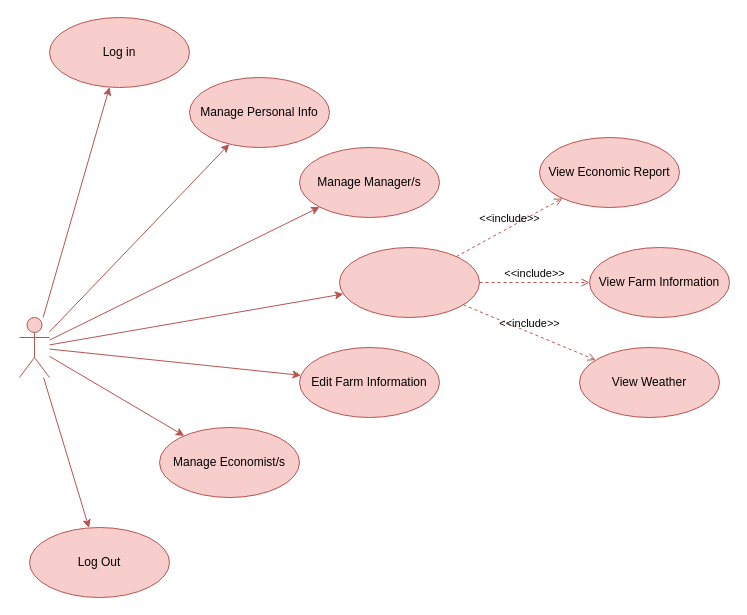
Some shapes in this 747 by 615 pixel diagram are drawn without their labels. The shapes that lost their labels are listed below. From the top down, each one's box as (x1, y1, x2, y2) in pixels, then its label:
(338, 246, 480, 318): View Dashboard
(18, 316, 50, 378): Owner
